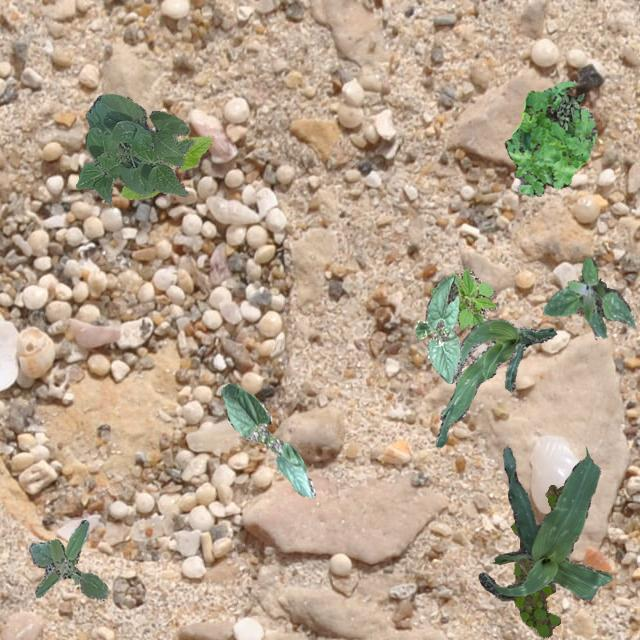crop: (478, 446, 610, 600), (434, 318, 556, 446), (74, 92, 194, 204), (220, 382, 314, 496), (120, 136, 212, 198), (414, 274, 460, 382)
weed: (504, 80, 596, 196), (496, 484, 562, 636), (542, 256, 634, 336), (28, 518, 108, 598), (430, 268, 498, 330), (556, 90, 584, 128)
